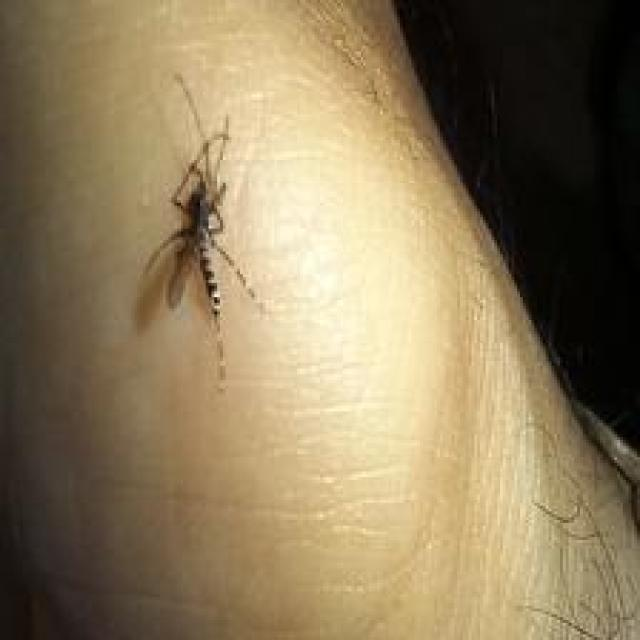Aedes albopictus: (139, 75, 267, 392)
